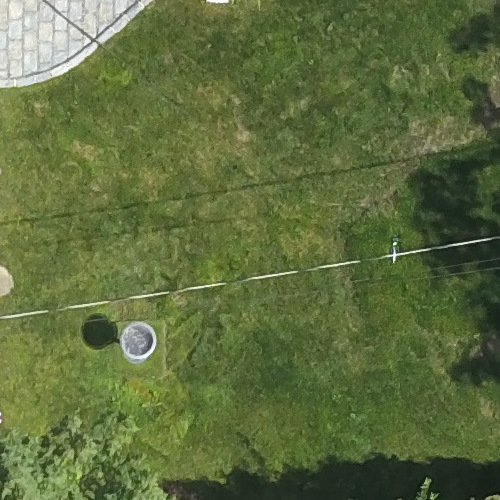bird bath: (111, 311, 161, 370)
container: (113, 313, 163, 372)
